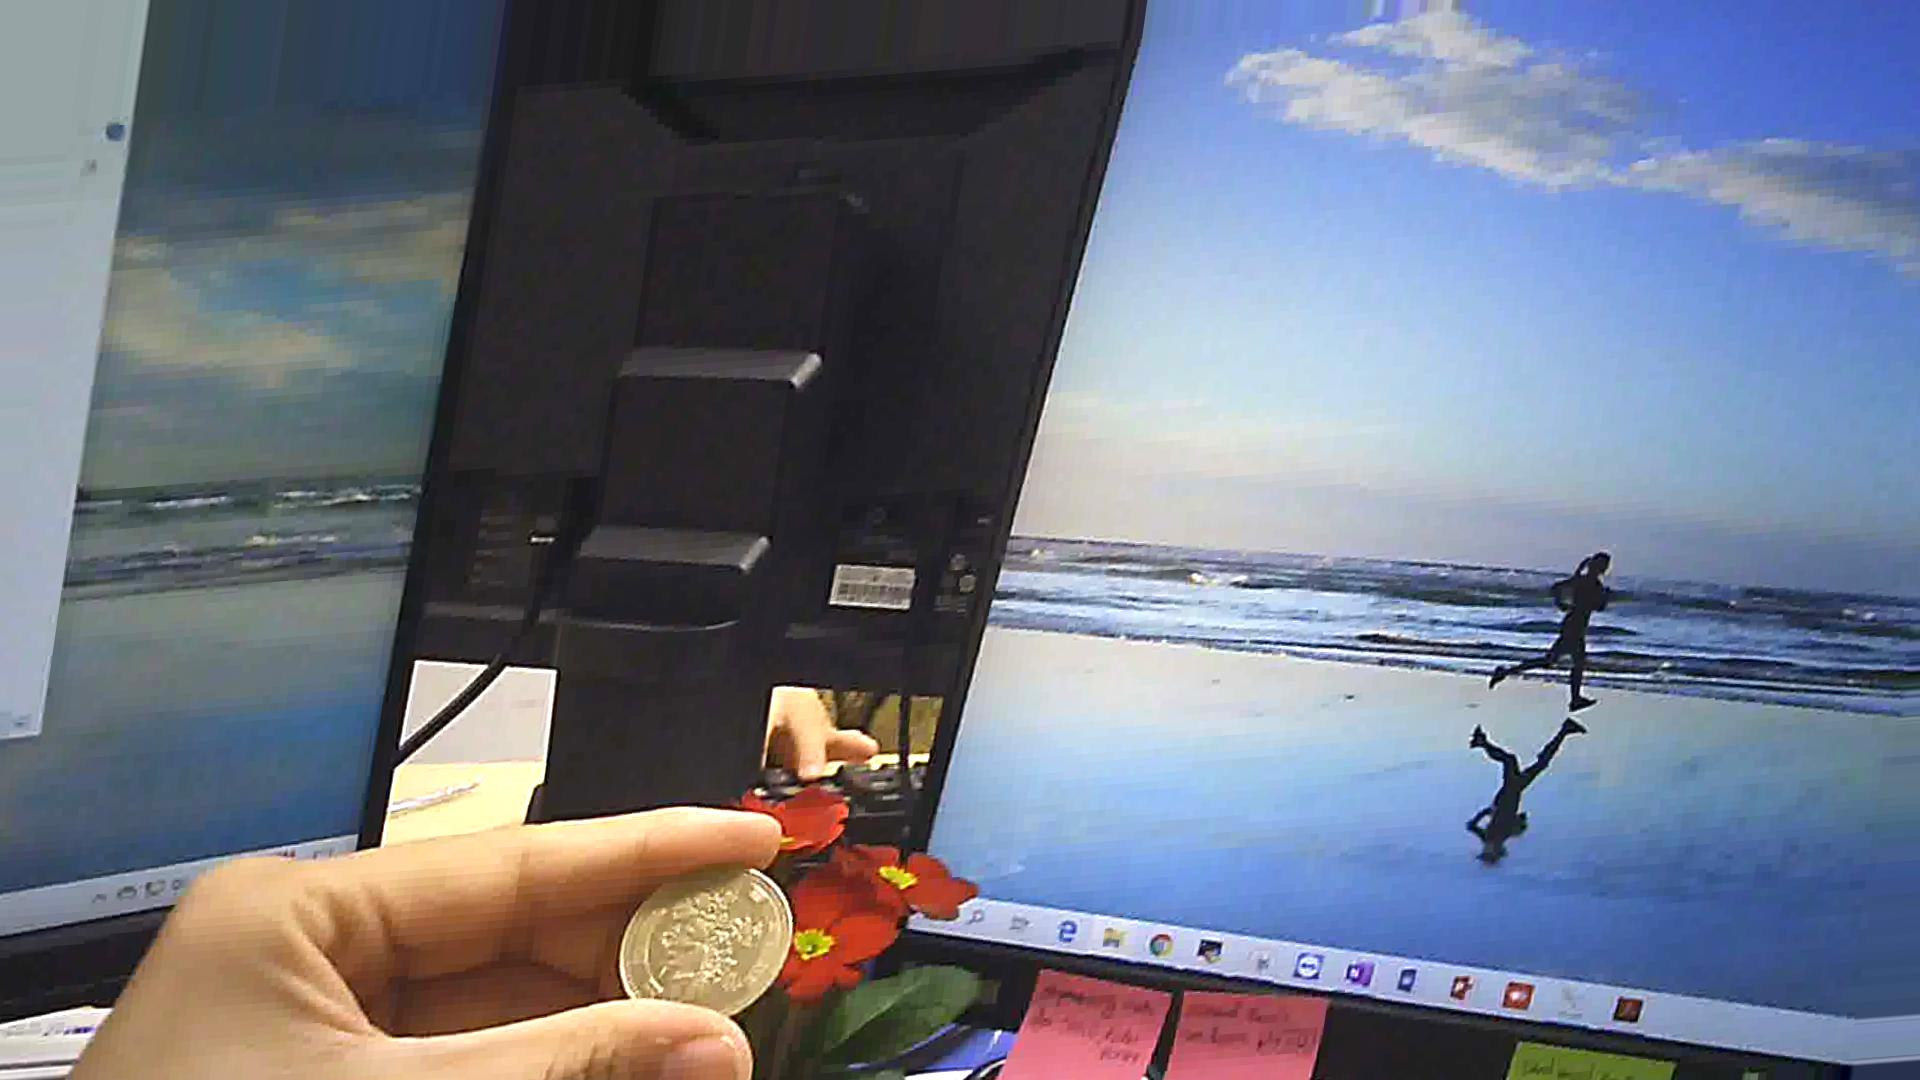500 Yen: (596, 865, 790, 1018)
